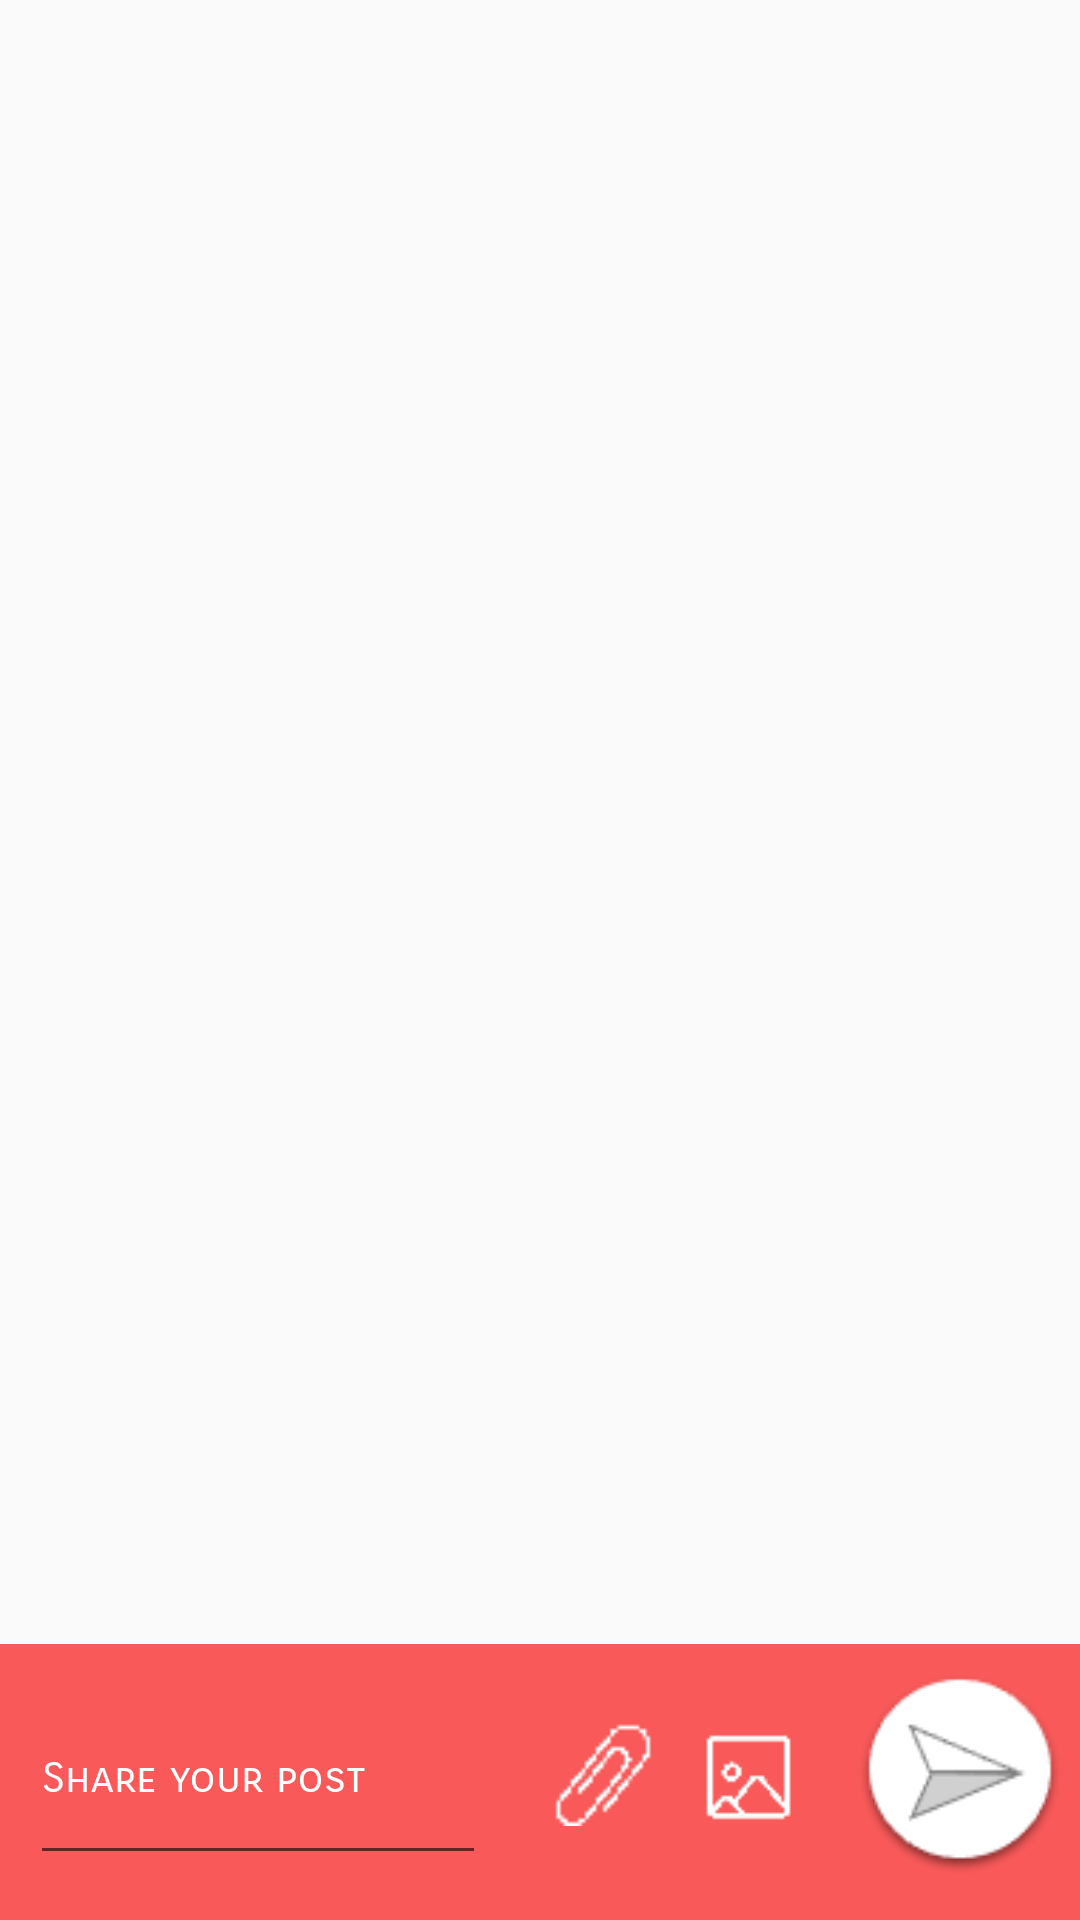

Screen size 1080*1920. Icon name, then its box in pixels as (x1, y1, x2, y2):
file: (555, 1724, 651, 1826)
senicon: (865, 1679, 1055, 1868)
